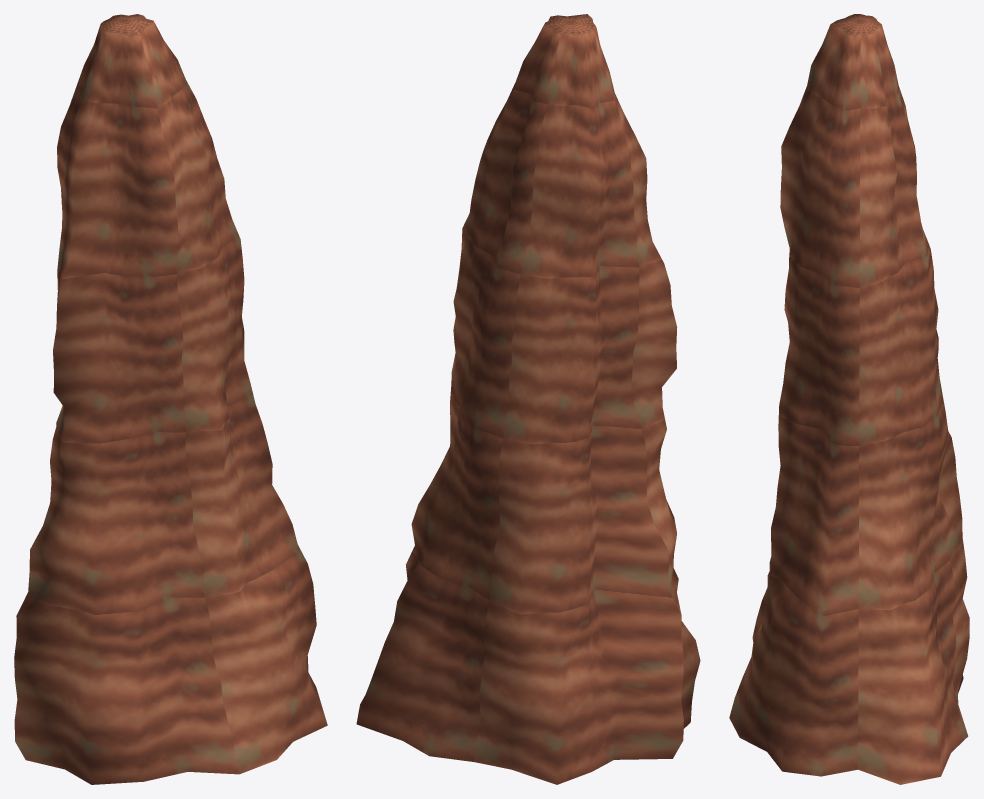
File: Rock_Spire_1.gltf
3 renders of one model, left to right at view 1: azimuth 30°, elevation 25°; view 2: azimuth 150°, elevation 25°; view 3: azimuth 270°, elevation 25°, orthographic. The views are drawn at different scales.
Parts seen in each view (by area): view 1: Rock_Spire_1; view 2: Rock_Spire_1; view 3: Rock_Spire_1.
Part boxes in pixels (x1,y1,x2,y2): Rock_Spire_1: (14,14,327,784); Rock_Spire_1: (356,14,700,784); Rock_Spire_1: (729,14,969,784).
Size of the model in its own units: 11.83 by 26.71 by 8.61.
1 material, 1 textured.
